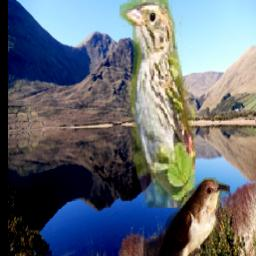Cuckoo: (144, 178, 231, 256)
Sparrow: (120, 0, 195, 208)
